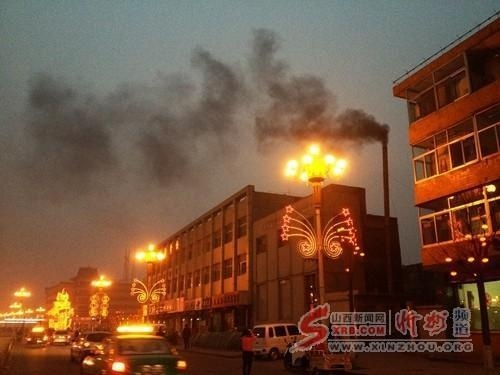fire: (1, 234, 177, 353), (285, 143, 347, 183)
